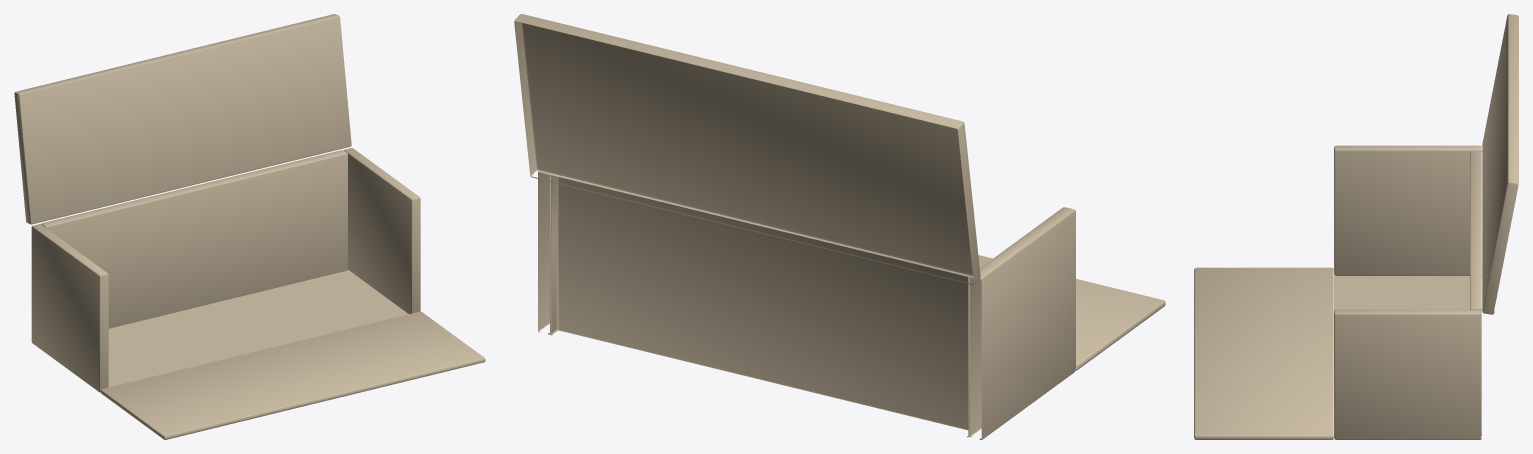
The model's file is places.glb.
3 renders of one model, left to right at view 1: azimuth 30°, elevation 25°; view 2: azimuth 150°, elevation 25°; view 3: azimuth 270°, elevation 25°, orthographic. The views are drawn at different scales.
Parts seen in each view (by area): view 1: Place_Proofing_Box; view 2: Place_Proofing_Box; view 3: Place_Proofing_Box.
Boxes of the visible parts, box(x1,y1,x2,y2) form: Place_Proofing_Box: box(14, 14, 485, 439); Place_Proofing_Box: box(514, 14, 1165, 439); Place_Proofing_Box: box(1194, 14, 1518, 439).
Size of the model in its own units: 0.6 by 0.4281 by 0.4873.
